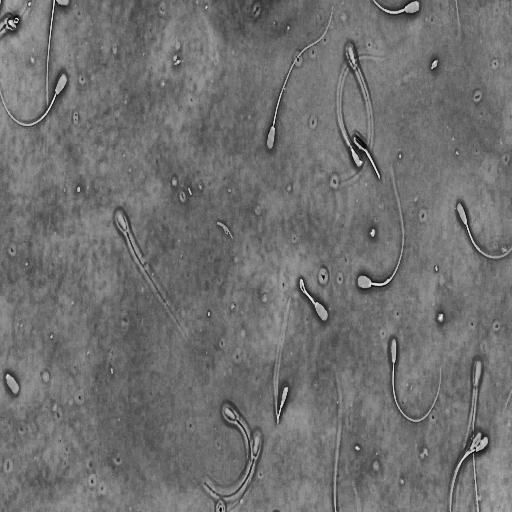coiled-tail: (365, 151, 380, 178)
dirt-particles: (429, 56, 439, 72), (436, 310, 446, 324)
folded-tail: (274, 298, 290, 422), (299, 279, 316, 305)
loose-head: (4, 371, 21, 398)
loose-tail: (333, 369, 343, 512), (45, 0, 56, 130)
normal: (115, 203, 203, 364), (265, 0, 336, 153), (336, 47, 393, 171), (355, 161, 405, 292), (334, 38, 375, 189), (199, 401, 255, 509), (389, 334, 443, 426), (202, 430, 263, 502), (0, 68, 69, 131), (454, 198, 512, 262), (449, 434, 490, 512), (448, 429, 484, 512), (272, 294, 293, 426), (471, 356, 483, 512), (298, 274, 330, 325), (351, 131, 382, 182), (370, 0, 422, 17)
